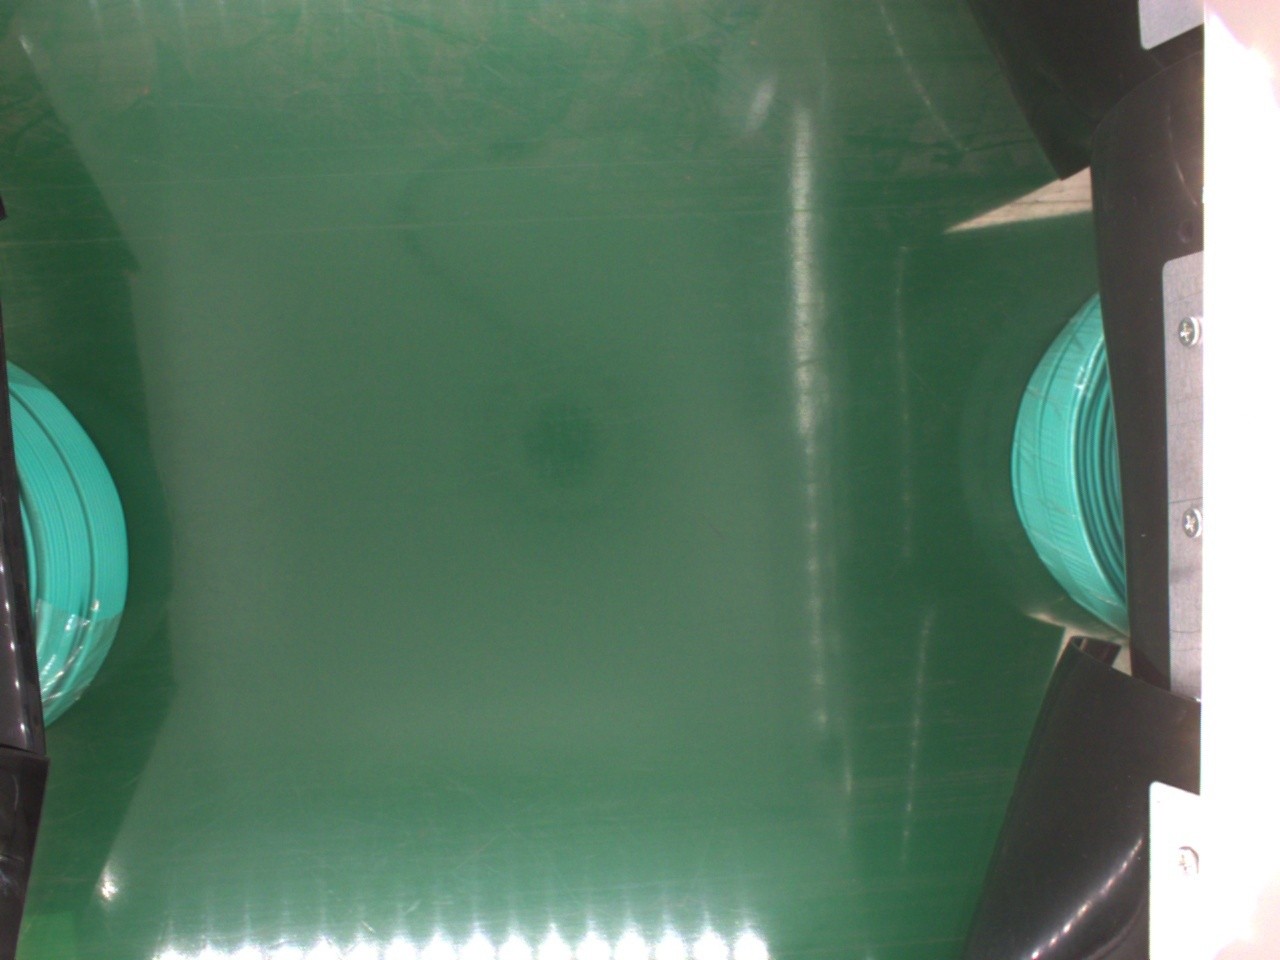green: (3, 360, 132, 713), (1009, 295, 1130, 639)
